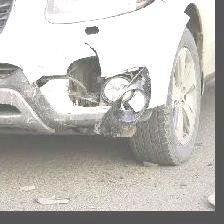head_lamp: (23, 0, 175, 137)
